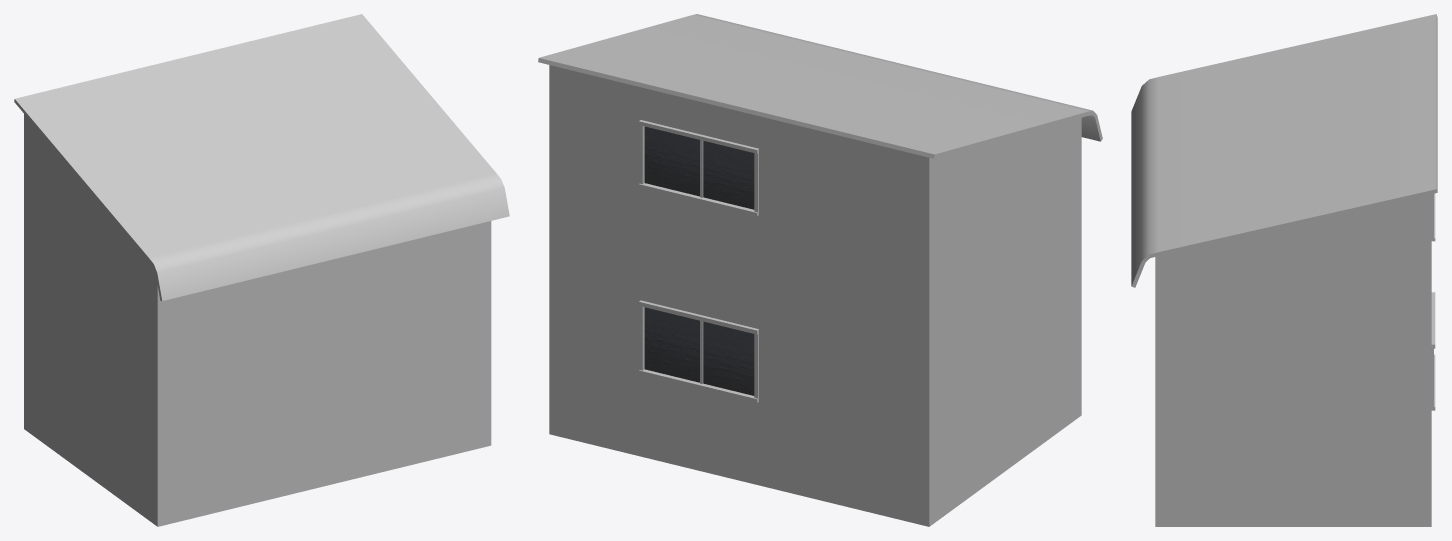
Rendered from apart_poor_12a.fbx.
The picture shows the model from 3 angles, left to right: view 1: azimuth 30°, elevation 25°; view 2: azimuth 150°, elevation 25°; view 3: azimuth 270°, elevation 25°; orthographic projection. The views are drawn at different scales.
Visible parts, largest first — view 1: apart_poor_12a; view 2: apart_poor_12a; view 3: apart_poor_12a.
Boxes of the visible parts, x1,y1,x2,y2 form: apart_poor_12a: (14,14,509,526); apart_poor_12a: (538,14,1102,526); apart_poor_12a: (1131,14,1437,526).
Bounding box in the file's own units: 5.38 × 4.88 × 3.97.
